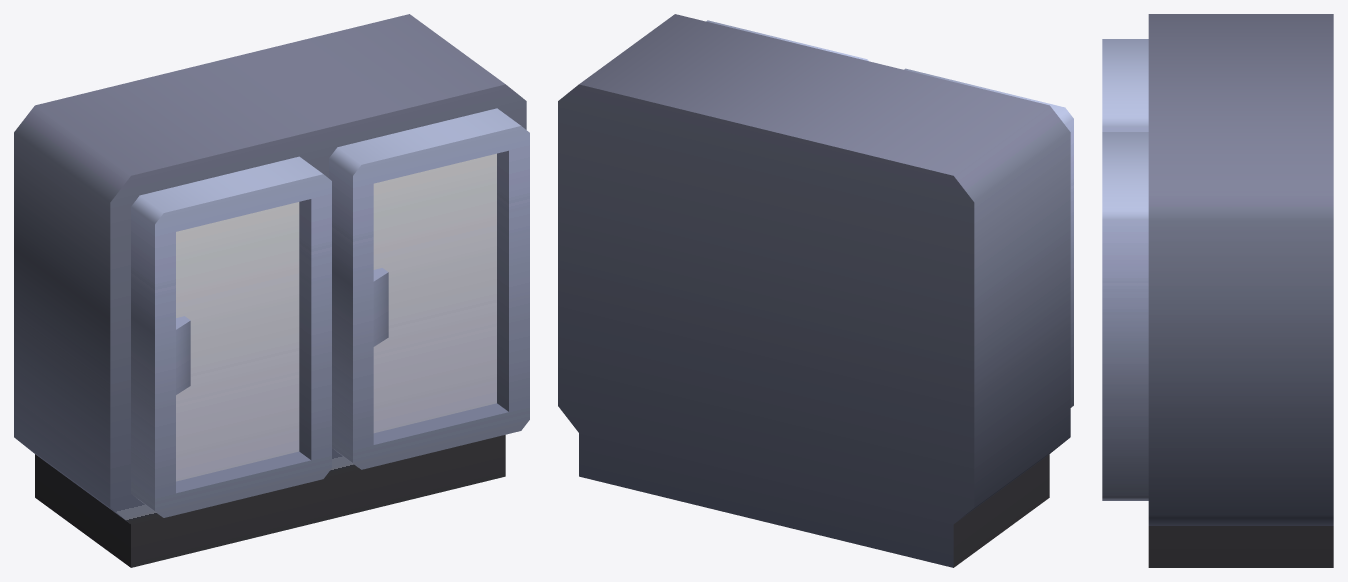
Rendered from kenney-mini-market-freezers-standing.glb.
3 views of the same model, side by side, from view 1: azimuth 30°, elevation 25°; view 2: azimuth 150°, elevation 25°; view 3: azimuth 270°, elevation 25° (orthographic). The views are drawn at different scales.
Parts seen in each view (by area): view 1: freezers-standing; view 2: freezers-standing; view 3: freezers-standing.
Boxes of the visible parts, x1,y1,x2,y2 form: freezers-standing: [14, 14, 529, 567]; freezers-standing: [558, 14, 1073, 567]; freezers-standing: [1102, 14, 1333, 567].
Bounding box in the file's own units: 1 × 0.9 × 0.5001.
Materials: 1 (1 with a texture image).
